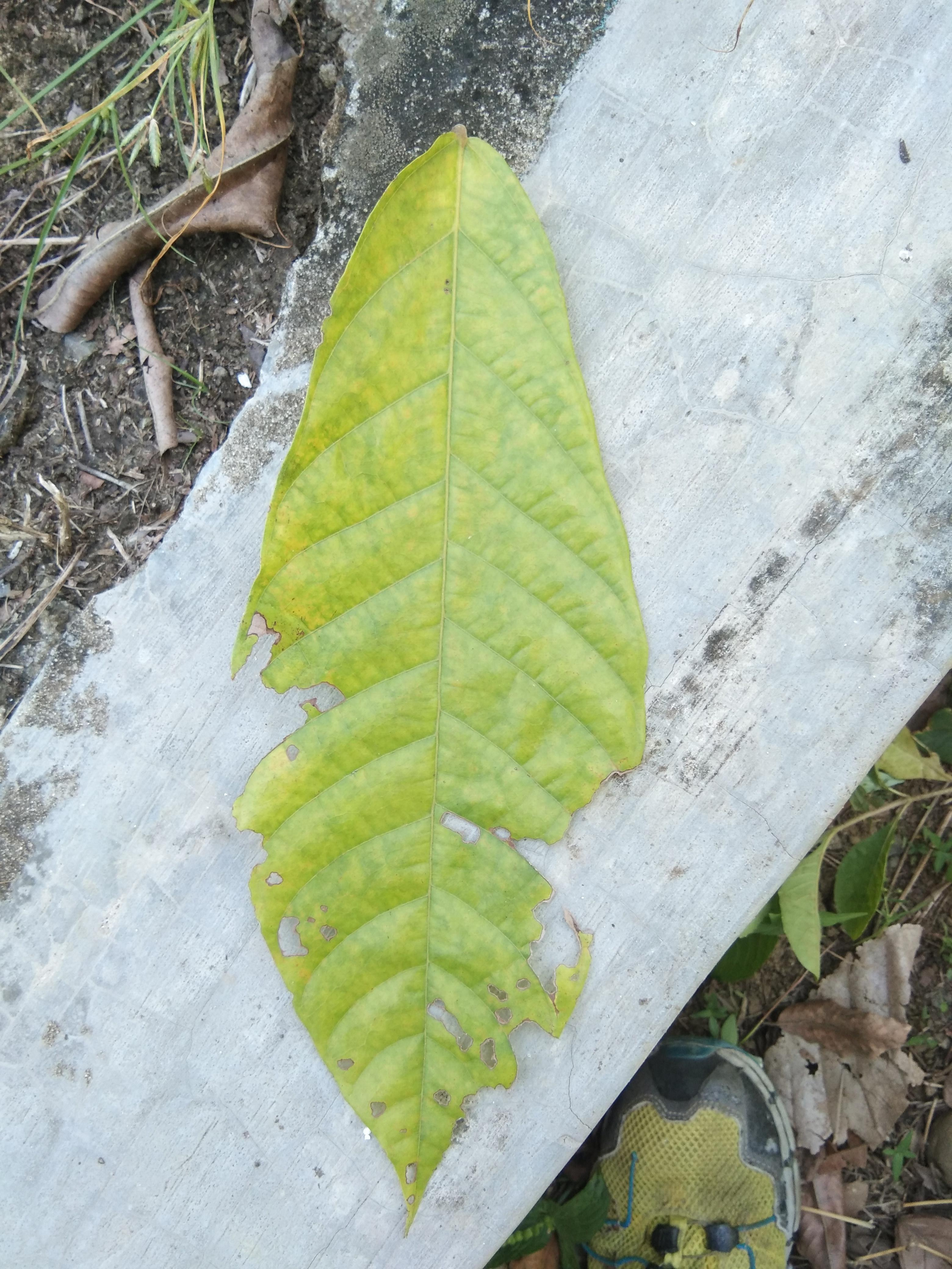deficiencia_potasio: (229, 138, 672, 1210)
